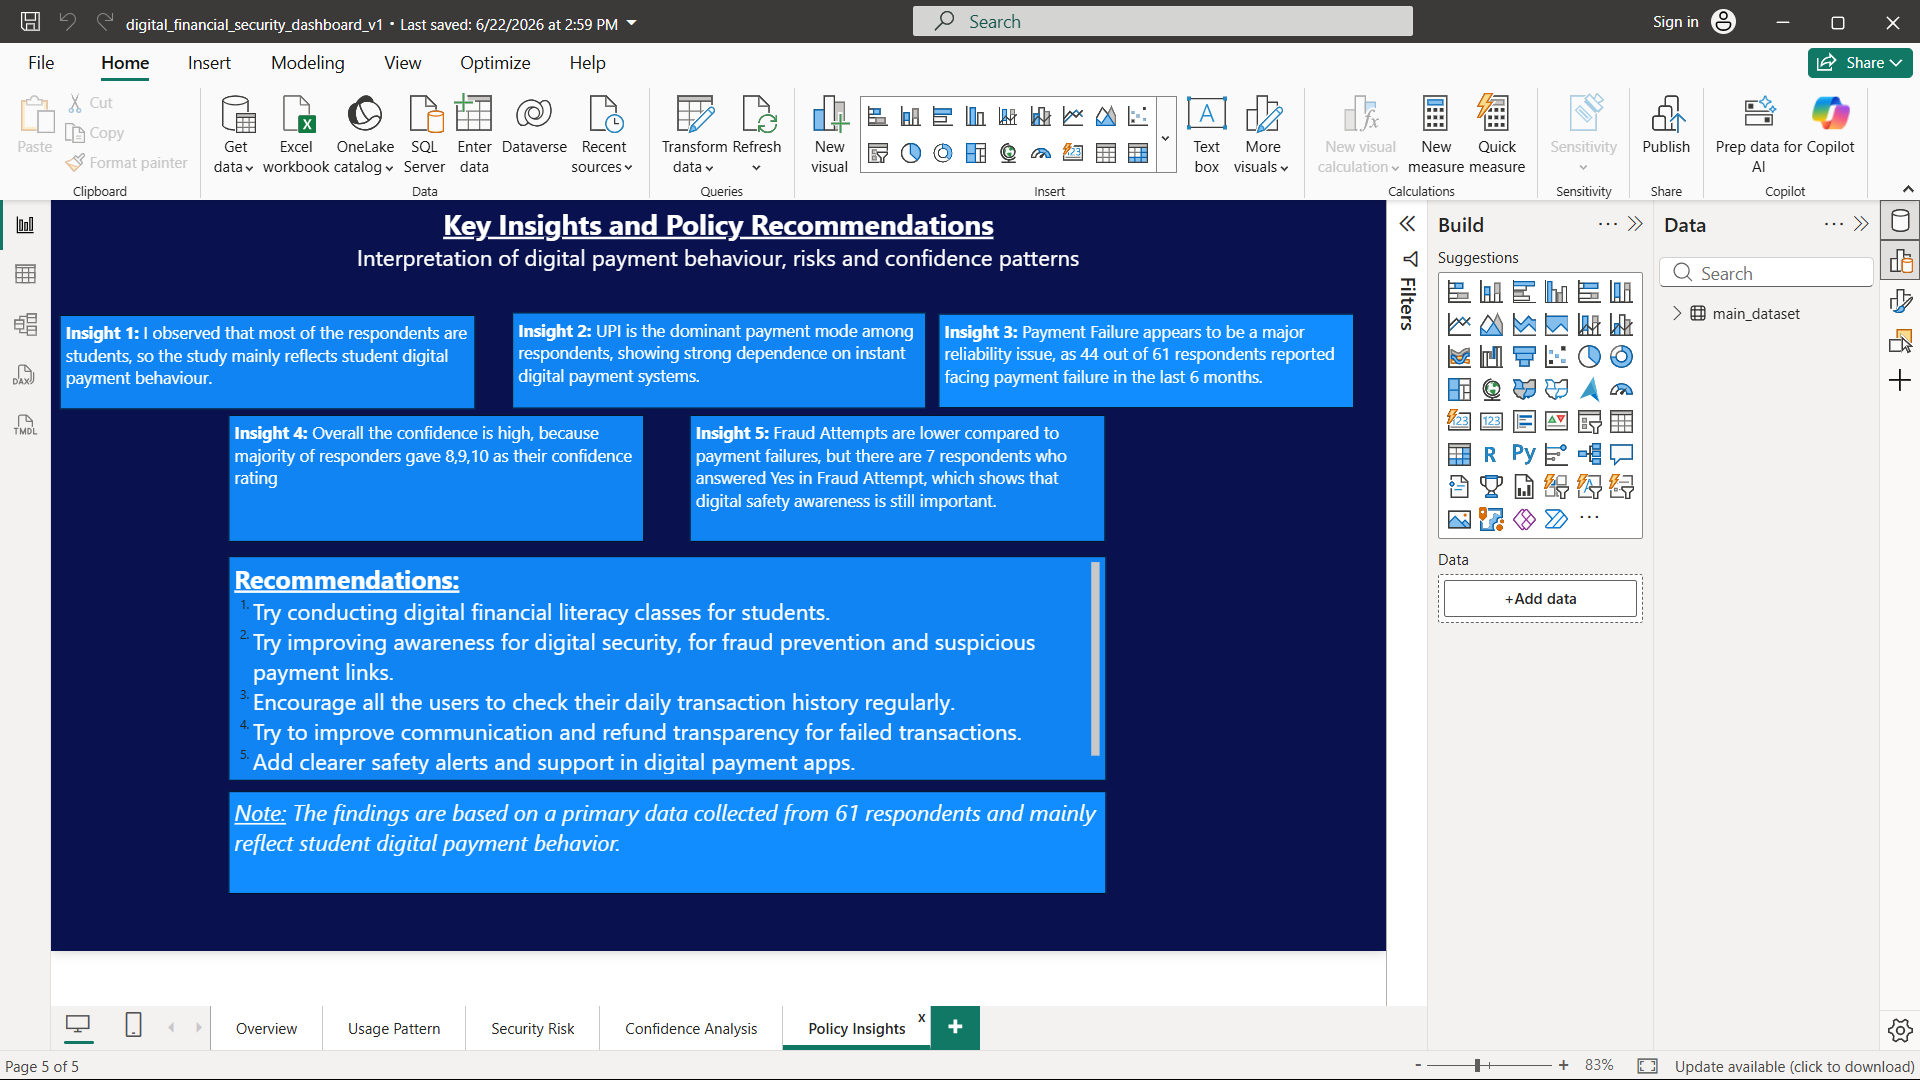

The page's visual inventory and layout, read from the dashboard file:
{"tool":"powerbi","page":{"name":"Policy Insights","canvas":[1280,720],"ordinal":4},"visuals":[{"type":"textbox","box":[5,0,1270,81.7],"z":0},{"type":"textbox","box":[441.7,108.3,396.7,91.7],"z":1000},{"type":"textbox","box":[612.5,206.2,398.4,121.9],"z":2000},{"type":"textbox","box":[850.7,108.6,398.7,90.8],"z":3000},{"type":"textbox","box":[170.3,206.2,398.4,121.9],"z":4000},{"type":"textbox","box":[8.9,110.3,398.7,90.8],"z":5000},{"type":"textbox","box":[170,341.7,841.7,215],"z":6000},{"type":"textbox","box":[170,566.7,841.7,98.3],"z":7000}]}

Visuals, with their boxes on the page's 1280x720 design canvas (x1, y1, x2, y2). These are canvas units, not pixel positions in the 1920x1080 screenshot, which may show the page scaled, cropped or inside an application window:
textbox: box(5, 0, 1275, 82)
textbox: box(442, 108, 838, 200)
textbox: box(612, 206, 1011, 328)
textbox: box(851, 109, 1249, 199)
textbox: box(170, 206, 569, 328)
textbox: box(9, 110, 408, 201)
textbox: box(170, 342, 1012, 557)
textbox: box(170, 567, 1012, 665)
